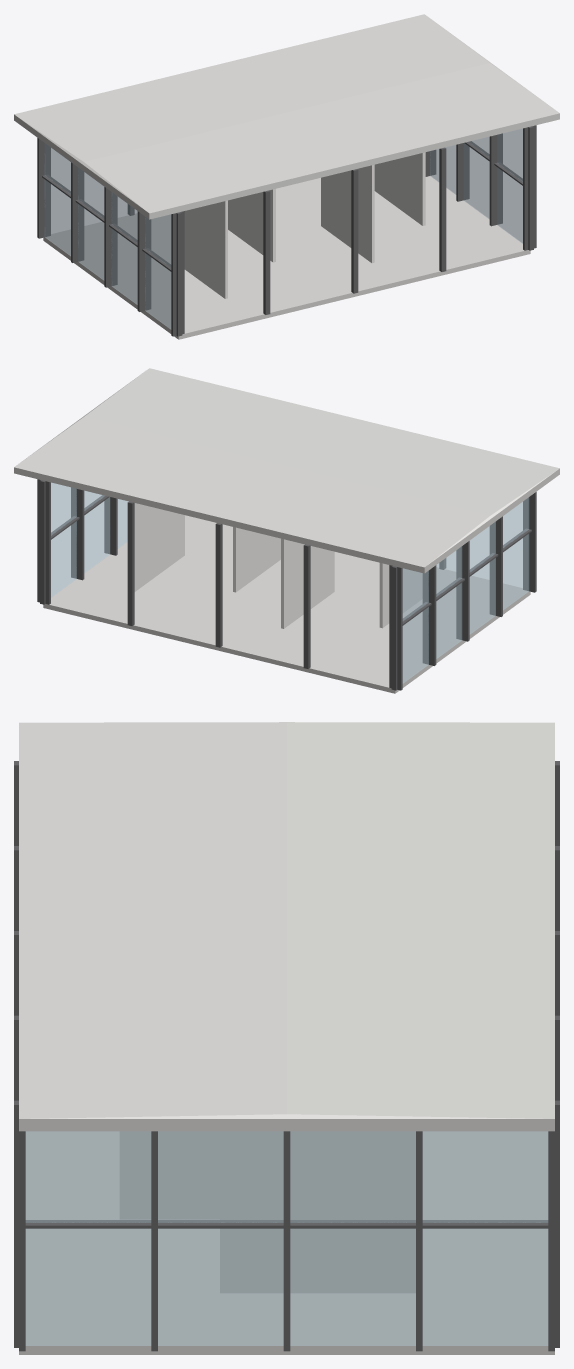
Rendered from pabellon.glb.
The picture shows the model from 3 angles, top to bottom: view 1: azimuth 30°, elevation 25°; view 2: azimuth 150°, elevation 25°; view 3: azimuth 270°, elevation 25°; orthographic projection. The views are drawn at different scales.
Visible parts, largest first — view 1: Hormigón_-_Hormigón_moldeado_in_situ, Piedra_-_Gris, Cristal, MATERIAL_NOT_DEFINED, Muro_por_defecto; view 2: Hormigón_-_Hormigón_moldeado_in_situ, Piedra_-_Gris, Cristal, MATERIAL_NOT_DEFINED, Muro_por_defecto; view 3: Hormigón_-_Hormigón_moldeado_in_situ, Cristal, Piedra_-_Gris, Muro_por_defecto, MATERIAL_NOT_DEFINED.
Boxes of the visible parts, bbox=[...] form: Hormigón_-_Hormigón_moldeado_in_situ: bbox=[14, 14, 559, 219]; Piedra_-_Gris: bbox=[43, 176, 530, 339]; Cristal: bbox=[44, 128, 522, 329]; MATERIAL_NOT_DEFINED: bbox=[37, 125, 536, 336]; Muro_por_defecto: bbox=[184, 152, 425, 298]; Hormigón_-_Hormigón_moldeado_in_situ: bbox=[14, 368, 559, 573]; Piedra_-_Gris: bbox=[43, 515, 530, 693]; Cristal: bbox=[51, 482, 528, 683]; MATERIAL_NOT_DEFINED: bbox=[37, 479, 536, 690]; Muro_por_defecto: bbox=[134, 503, 422, 628]; Hormigón_-_Hormigón_moldeado_in_situ: bbox=[19, 722, 554, 1131]; Cristal: bbox=[25, 1131, 548, 1345]; Piedra_-_Gris: bbox=[19, 1131, 554, 1354]; Muro_por_defecto: bbox=[120, 1131, 415, 1292]; MATERIAL_NOT_DEFINED: bbox=[14, 761, 559, 1351].
Size of the model in its own units: 14 by 4.39 by 8.15.
